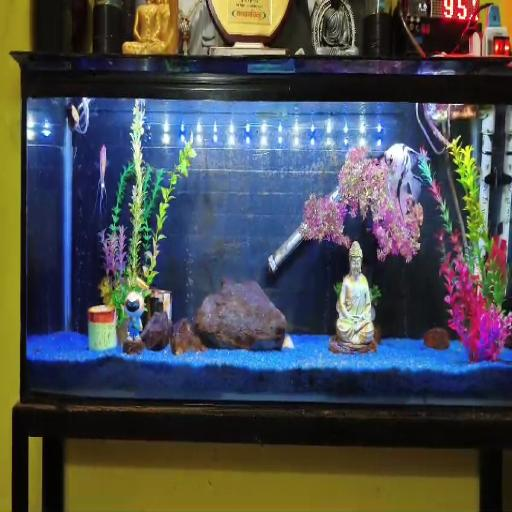Fish: (384, 144, 423, 218), (95, 145, 107, 216), (68, 98, 89, 134), (69, 104, 79, 129)
